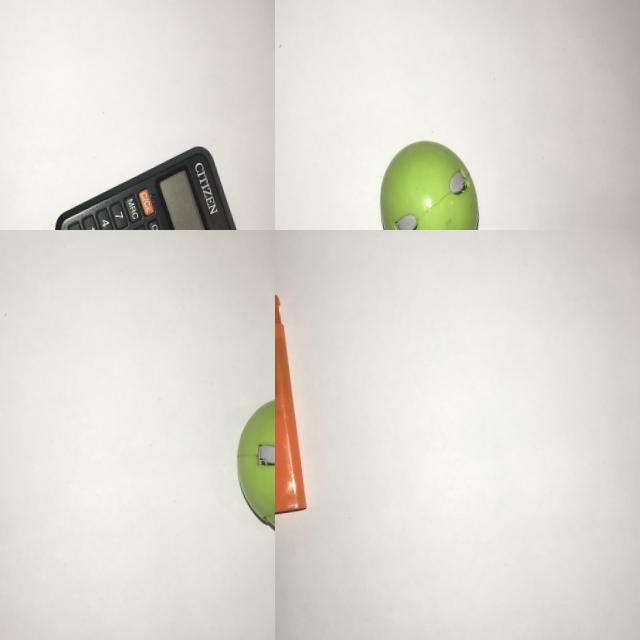calculator: (41, 135, 261, 230)
lighter: (275, 283, 315, 526)
toy: (366, 127, 491, 230), (221, 376, 275, 553)
